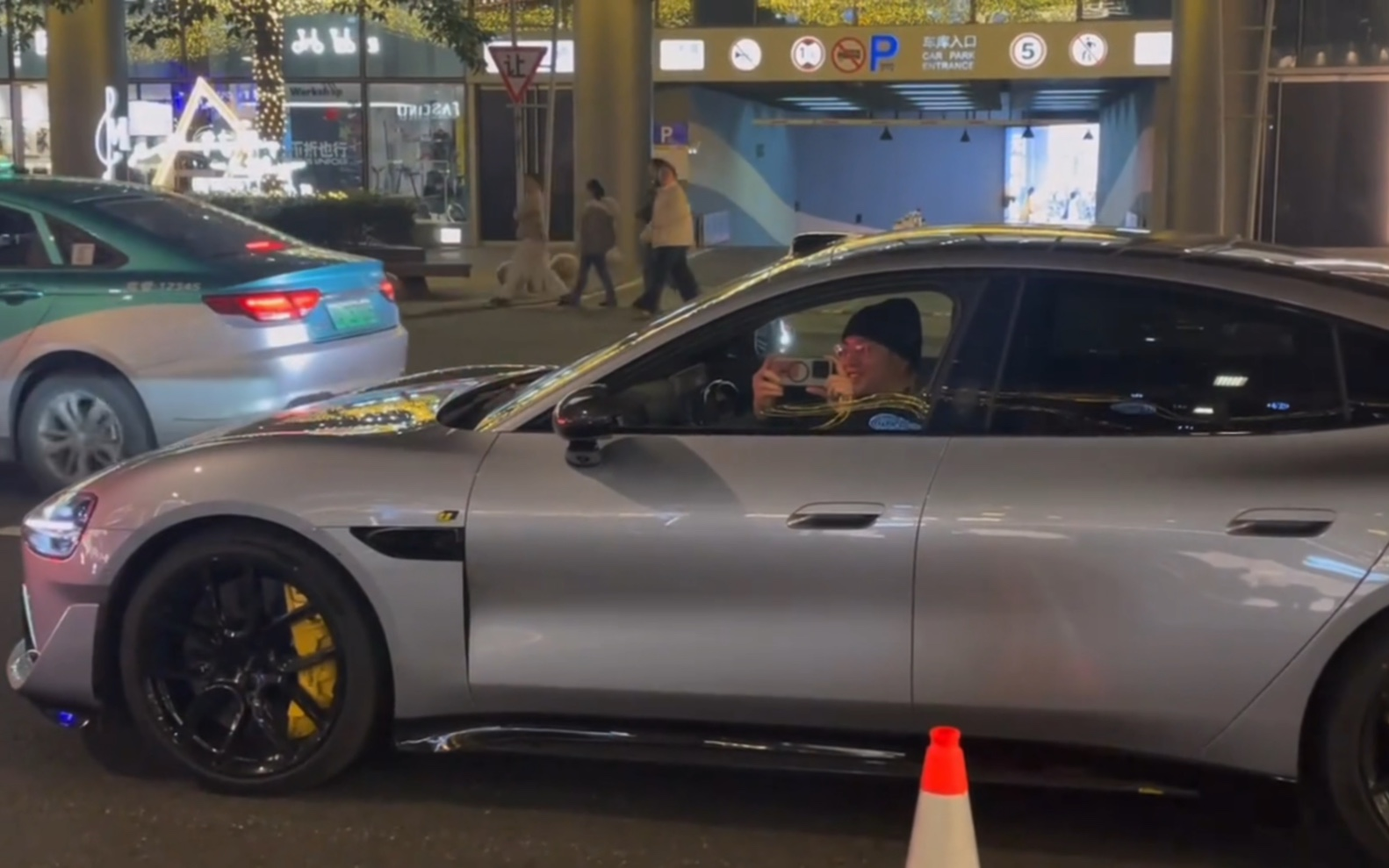other: (0, 160, 421, 482)
su7: (26, 212, 1389, 866)
